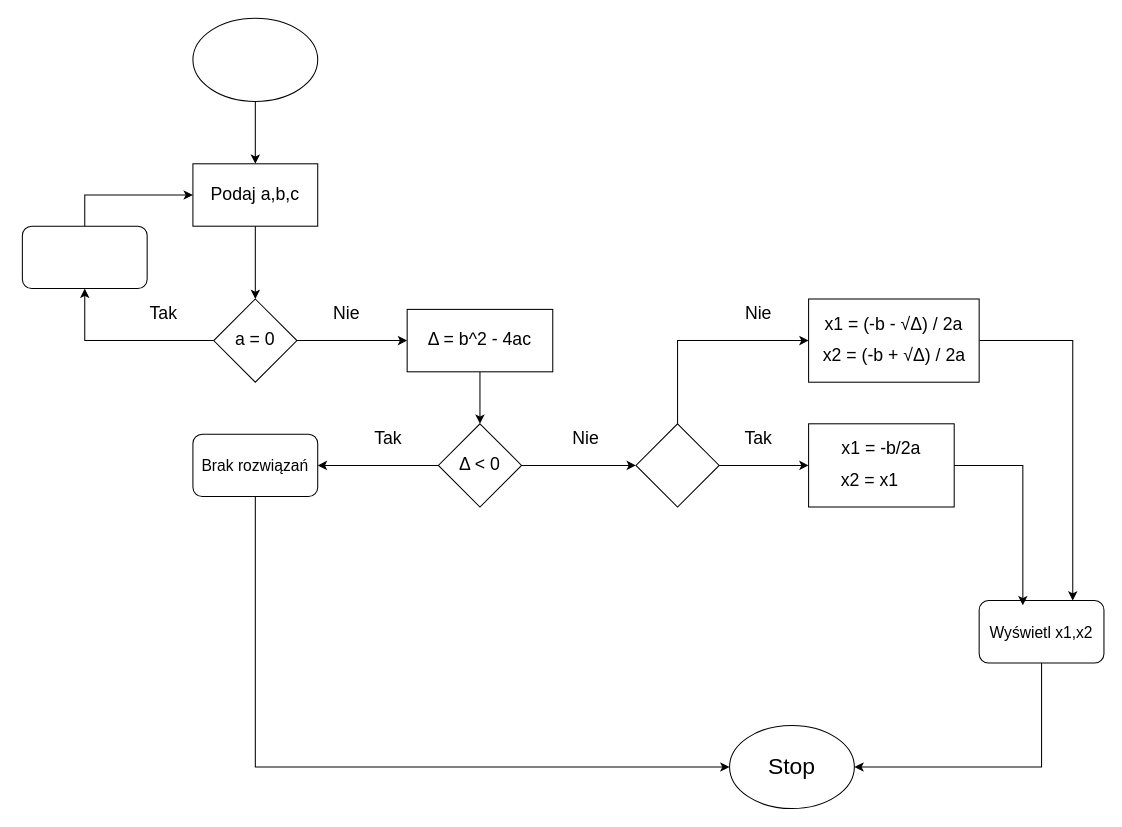
This 1122x827 diagram has some shape labels left out. Here are the shapes that lost their labels. From the top down, the centre of each, then its label:
At (x=255, y=59): "Start".
At (x=84, y=257): "To nie jest równanie kwadratowe".
At (x=677, y=465): "Δ = 0".
